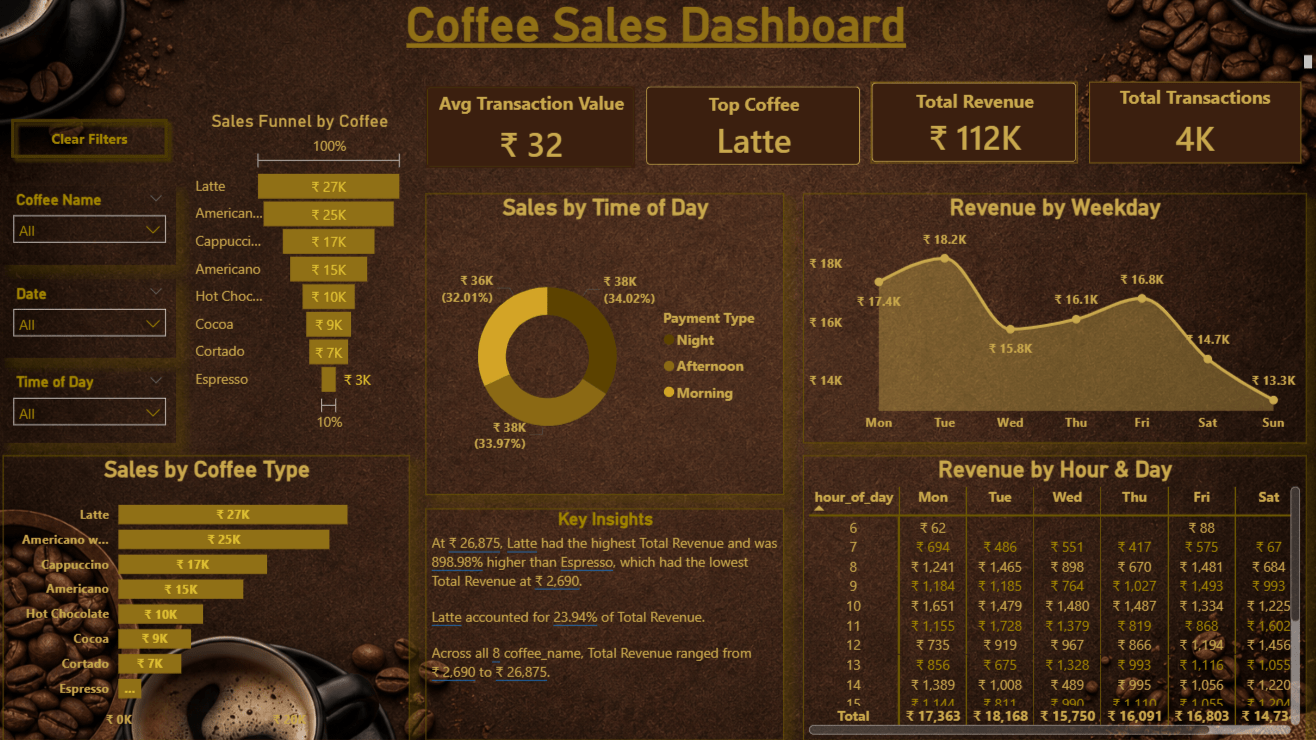

The page's visual inventory and layout, read from the dashboard file:
{"tool":"powerbi","page":{"name":"Page 1","canvas":[1280,720],"ordinal":0},"visuals":[{"type":"cardVisual","fields":{"Data":["coffee shop sales.Total Revenue"]},"box":[842.7,77.7,210.7,89.8],"z":0},{"type":"cardVisual","fields":{"Data":["coffee shop sales.Total Transactions"]},"box":[1053.3,77.7,215.8,89.8],"z":1000},{"type":"cardVisual","fields":{"Data":["coffee shop sales.Avg Transaction Value"]},"box":[412.7,81.2,212.4,89.8],"z":2000},{"type":"cardVisual","fields":{"Data":["coffee shop sales.Top Coffee"]},"box":[625.1,81.2,217.6,86.3],"z":3000},{"type":"textbox","title":"Coffee Sales Dashboard","box":[0,8,1280.2,73.9],"z":4000},{"type":"clusteredBarChart","title":"Sales by Coffee Type","fields":{"Category":["coffee shop sales.coffee_name"],"Y":["coffee shop sales.Total Revenue"]},"box":[6.9,443.8,393.7,276.3],"z":5000},{"type":"areaChart","title":"Revenue by Weekday","fields":{"Category":["coffee shop sales.Weekday"],"Y":["coffee shop sales.Total Revenue"]},"box":[782.2,189.9,486.9,241.7],"z":6000},{"type":"donutChart","title":"Sales by Time of Day","fields":{"Category":["coffee shop sales.Time_of_Day"],"Y":["coffee shop sales.Total Revenue"]},"box":[416.1,189.9,347.1,291.8],"z":7000},{"type":"pivotTable","title":"Revenue by Hour & Day","fields":{"Rows":["coffee shop sales.hour_of_day"],"Columns":["coffee shop sales.Weekday"],"Values":["coffee shop sales.Total Revenue"]},"box":[782.2,443.8,486.9,276.3],"z":8000},{"type":"slicer","fields":{"Values":["coffee shop sales.coffee_name"]},"box":[6.9,183,167.5,76],"z":9000},{"type":"slicer","fields":{"Values":["coffee shop sales.Date"]},"box":[6.9,272.8,167.5,76],"z":10000},{"type":"slicer","fields":{"Values":["coffee shop sales.Time_of_Day"]},"box":[6.9,359.2,167.5,72.5],"z":11000},{"type":"actionButton","box":[6.9,110.5,167.5,53.5],"z":12000},{"type":"textbox","title":"Key Insights","box":[416.1,495.6,347.1,224.5],"z":13000},{"type":"funnel","title":"Sales Funnel by Coffee","fields":{"Category":["coffee shop sales.coffee_name"],"Y":["coffee shop sales.Total Revenue"]},"box":[188.2,110.5,212.4,314.3],"z":14000}]}

Visuals, with their boxes in screenshot pixels (x1, y1, x2, y2), scaled from the page's 1280x720 canvas onto the 1316x740 screenshot:
cardVisual - coffee shop sales.Total Revenue: x1=866 y1=80 x2=1083 y2=172
cardVisual - coffee shop sales.Total Transactions: x1=1083 y1=80 x2=1305 y2=172
cardVisual - coffee shop sales.Avg Transaction Value: x1=424 y1=83 x2=643 y2=176
cardVisual - coffee shop sales.Top Coffee: x1=643 y1=83 x2=866 y2=172
"Coffee Sales Dashboard" textbox: x1=0 y1=8 x2=1315 y2=84
"Sales by Coffee Type" clusteredBarChart: x1=7 y1=456 x2=412 y2=739
"Revenue by Weekday" areaChart: x1=804 y1=195 x2=1305 y2=444
"Sales by Time of Day" donutChart: x1=428 y1=195 x2=785 y2=495
"Revenue by Hour & Day" pivotTable: x1=804 y1=456 x2=1305 y2=739
slicer - coffee shop sales.coffee_name: x1=7 y1=188 x2=179 y2=266
slicer - coffee shop sales.Date: x1=7 y1=280 x2=179 y2=358
slicer - coffee shop sales.Time_of_Day: x1=7 y1=369 x2=179 y2=444
actionButton: x1=7 y1=114 x2=179 y2=169
"Key Insights" textbox: x1=428 y1=509 x2=785 y2=739
"Sales Funnel by Coffee" funnel: x1=193 y1=114 x2=412 y2=437
